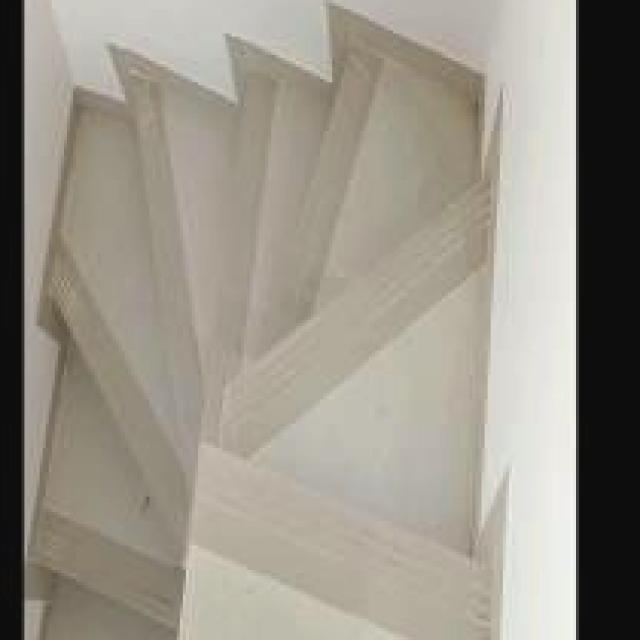downstair: (196, 83, 492, 640)
